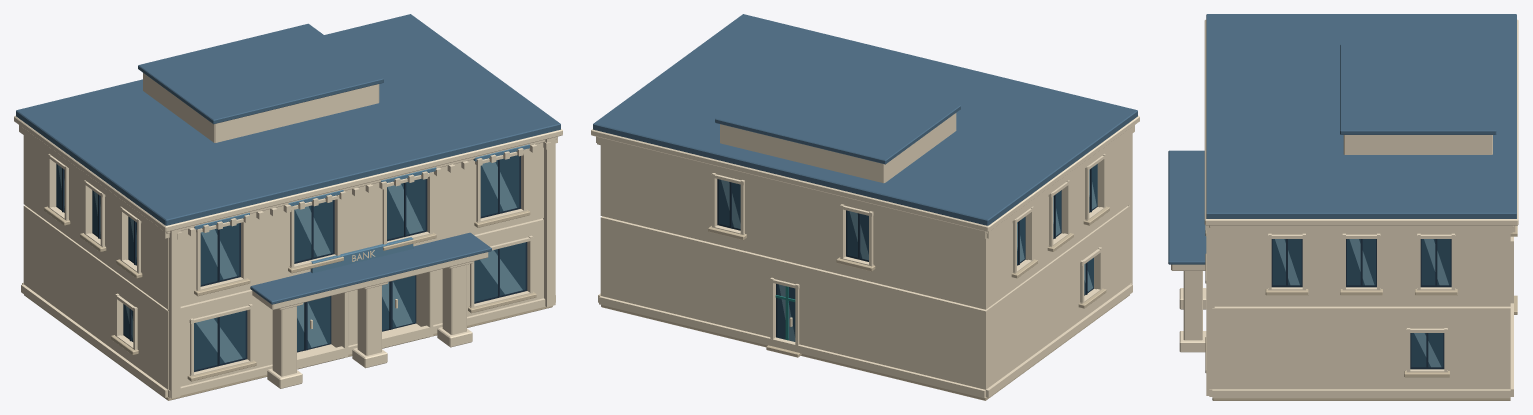
Rendered from neighborhood_bank.glb.
3 renders of one model, left to right at view 1: azimuth 30°, elevation 25°; view 2: azimuth 150°, elevation 25°; view 3: azimuth 270°, elevation 25°, orthographic. The views are drawn at different scales.
Parts seen in each view (by area): view 1: NeighborhoodBank_StaticMesh; view 2: NeighborhoodBank_StaticMesh; view 3: NeighborhoodBank_StaticMesh.
Boxes of the visible parts, x1,y1,x2,y2 form: NeighborhoodBank_StaticMesh: (14, 14, 562, 400); NeighborhoodBank_StaticMesh: (591, 14, 1139, 400); NeighborhoodBank_StaticMesh: (1168, 14, 1518, 400).
Size of the model in its own units: 15.92 by 8.02 by 11.74.
